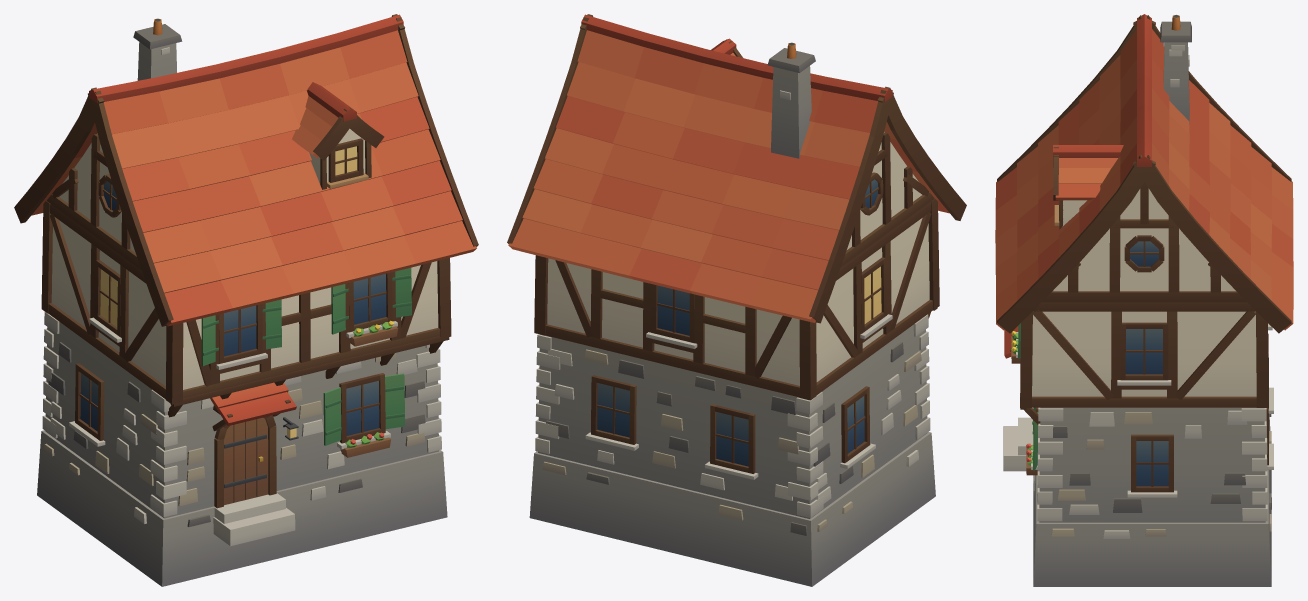
Rendered from house_01_timber_cottage.glb.
3 views of the same model, side by side, from view 1: azimuth 30°, elevation 25°; view 2: azimuth 150°, elevation 25°; view 3: azimuth 270°, elevation 25° (orthographic). The views are drawn at different scales.
Parts seen in each view (by area): view 1: house_01_timber_cottage; view 2: house_01_timber_cottage; view 3: house_01_timber_cottage.
Part boxes in pixels (x1,y1,x2,y2): house_01_timber_cottage: (14, 14, 478, 586); house_01_timber_cottage: (507, 14, 966, 586); house_01_timber_cottage: (995, 14, 1293, 586).
Size of the model in its own units: 28.02 by 42.68 by 24.48.
1 material, 1 textured.
